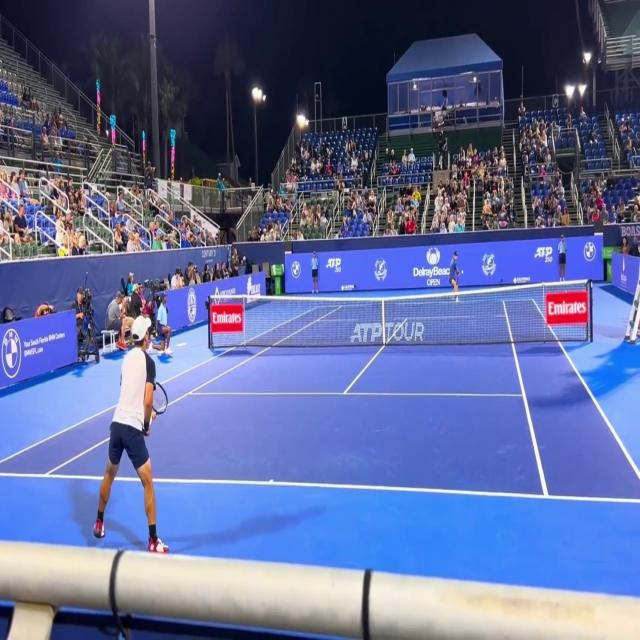tennisBall: (460, 269, 466, 278)
